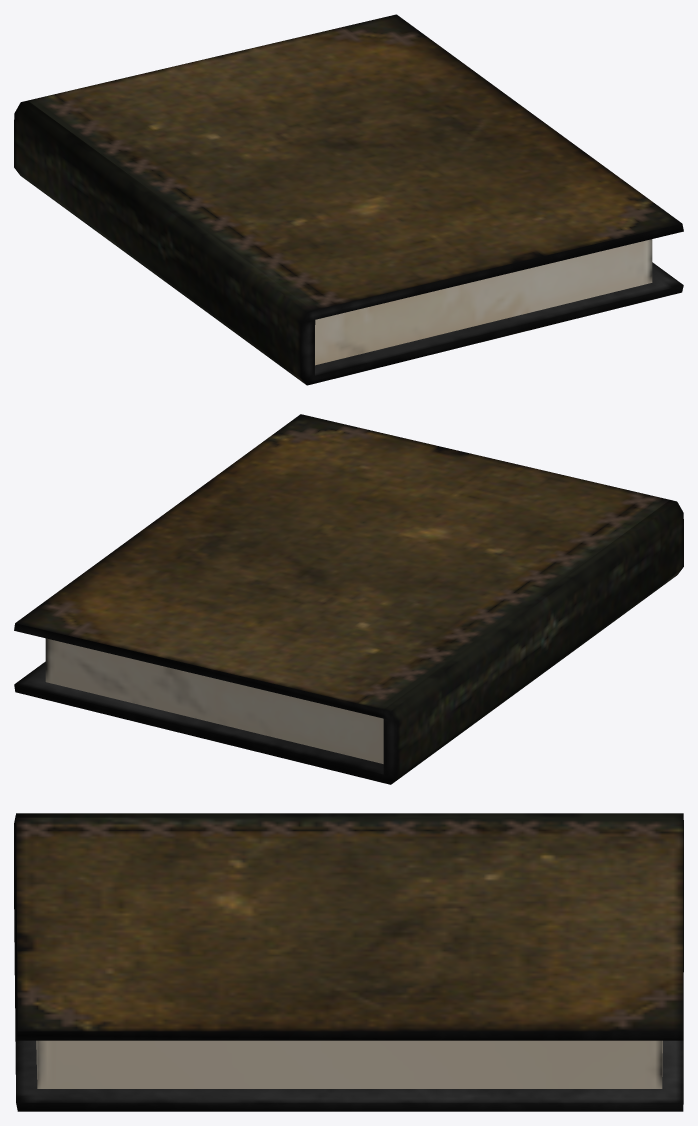
The model's file is pbr_dark_diary.glb.
The picture shows the model from 3 angles, top to bottom: view 1: azimuth 30°, elevation 25°; view 2: azimuth 150°, elevation 25°; view 3: azimuth 270°, elevation 25°; orthographic projection. The views are drawn at different scales.
Visible parts, largest first — view 1: Diary_LOD0; view 2: Diary_LOD0; view 3: Diary_LOD0.
Part boxes in pixels (x1,y1,x2,y2): Diary_LOD0: (14,14,683,385); Diary_LOD0: (14,414,683,784); Diary_LOD0: (14,813,683,1111).
Bounding box in the file's own units: 0.2534 × 0.0464 × 0.3293.
Materials: 1 (1 with a texture image).
